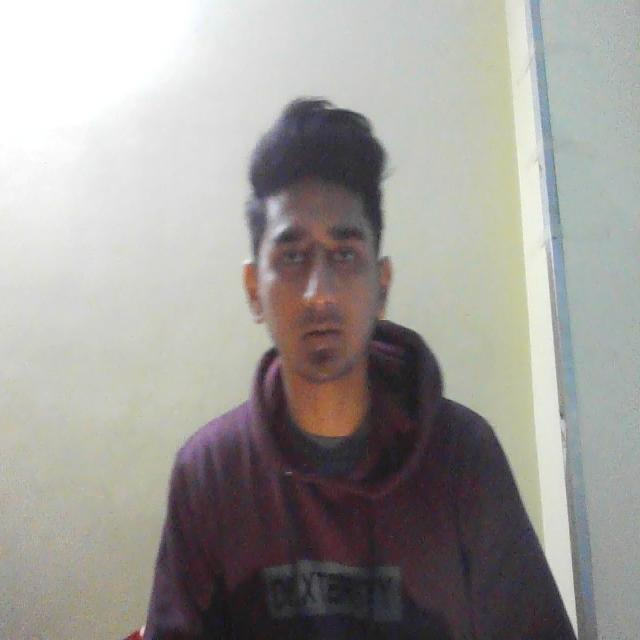real: (244, 110, 407, 418)
